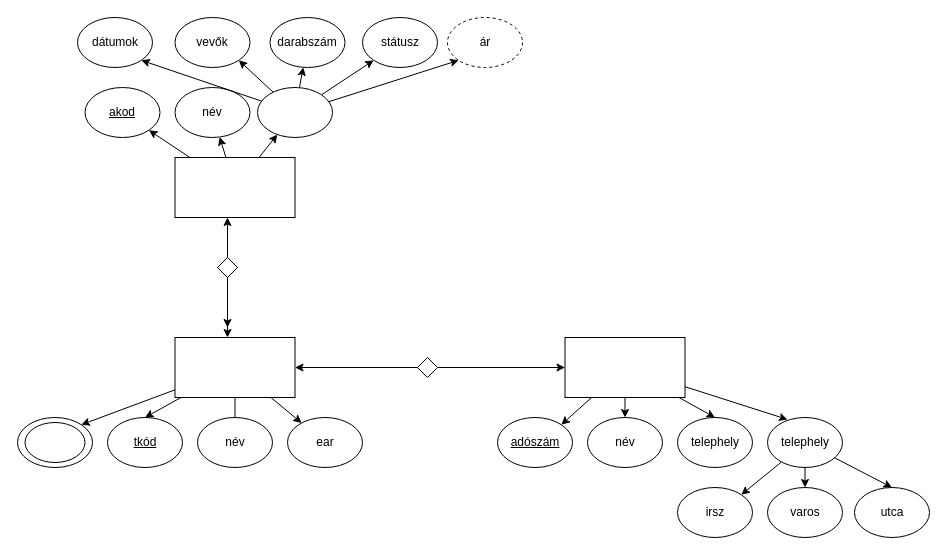
Image size: 947x555. Some labels were removed from this diagram. The box of each missing label's shape, as (x1, y1, x2, y2) in pixels:
alkatrész: (174, 156, 295, 218)
egy. darab.: (24, 422, 85, 462)
gyártó: (564, 336, 685, 398)
rendelés: (256, 86, 332, 138)
termék: (174, 336, 295, 398)
